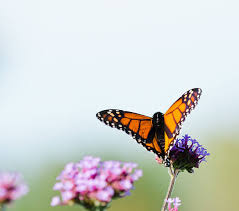Butterfly: (95, 87, 202, 162)
